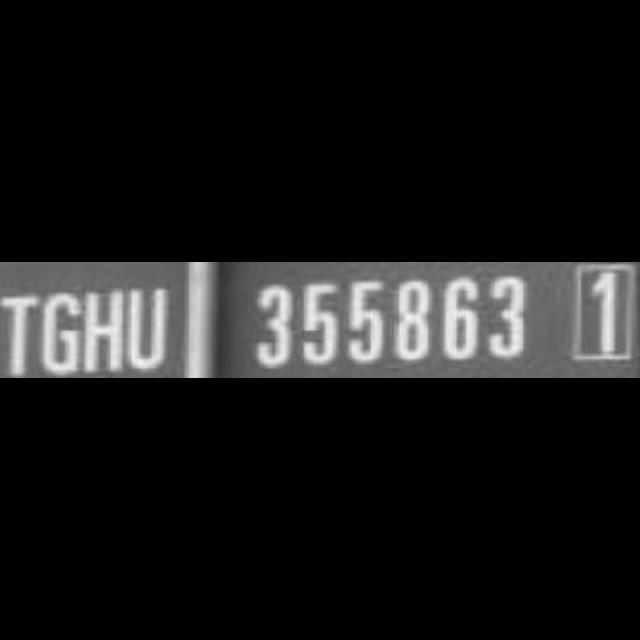1: (576, 264, 630, 360)
3: (250, 278, 294, 377), (486, 272, 530, 366)
5: (346, 276, 388, 370), (304, 276, 338, 366)
6: (441, 268, 481, 362)
8: (395, 274, 433, 368)
g: (41, 286, 84, 378)
h: (82, 284, 126, 378)
t: (0, 290, 42, 378)
u: (126, 282, 172, 378)
